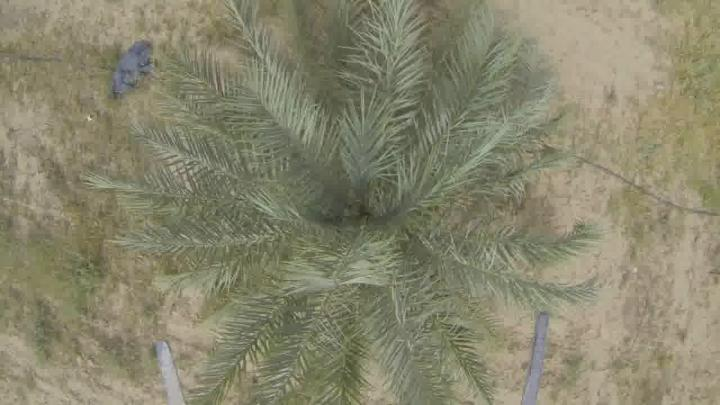Date-Palm-Crown: (216, 49, 509, 375)
